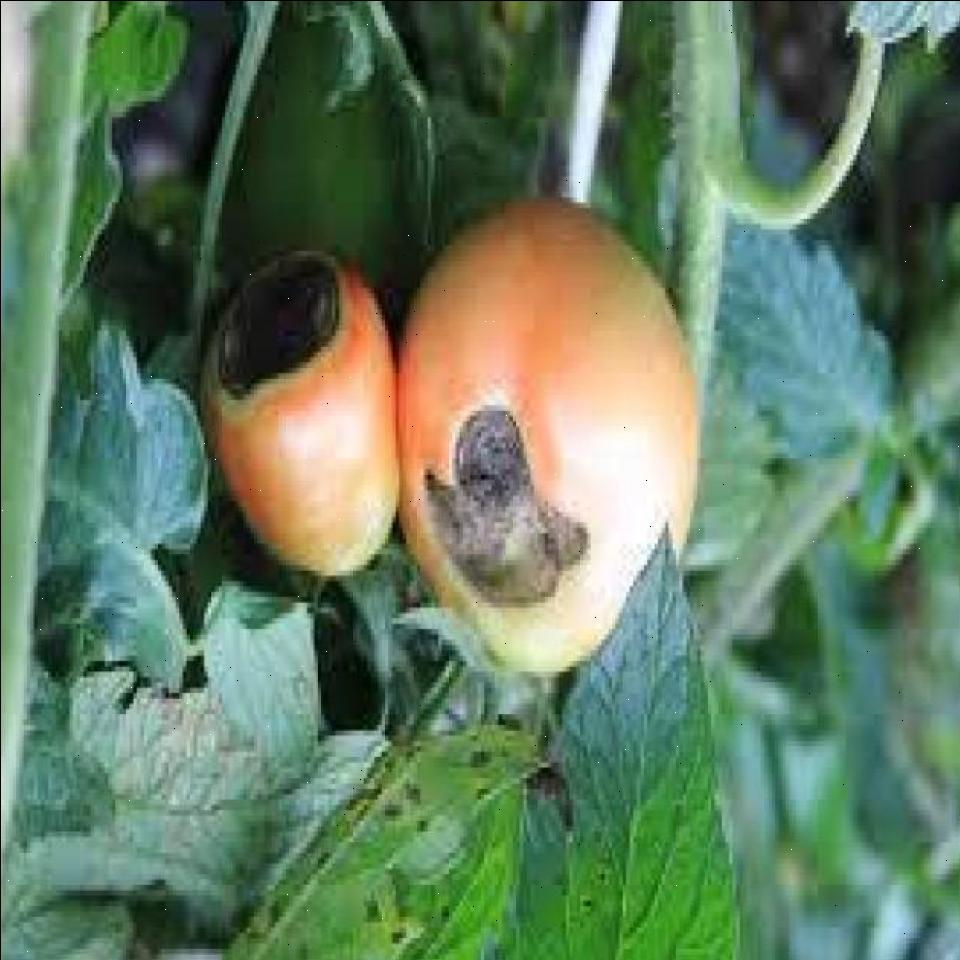Blossom_end_rot: (414, 400, 588, 620), (197, 250, 347, 432)
